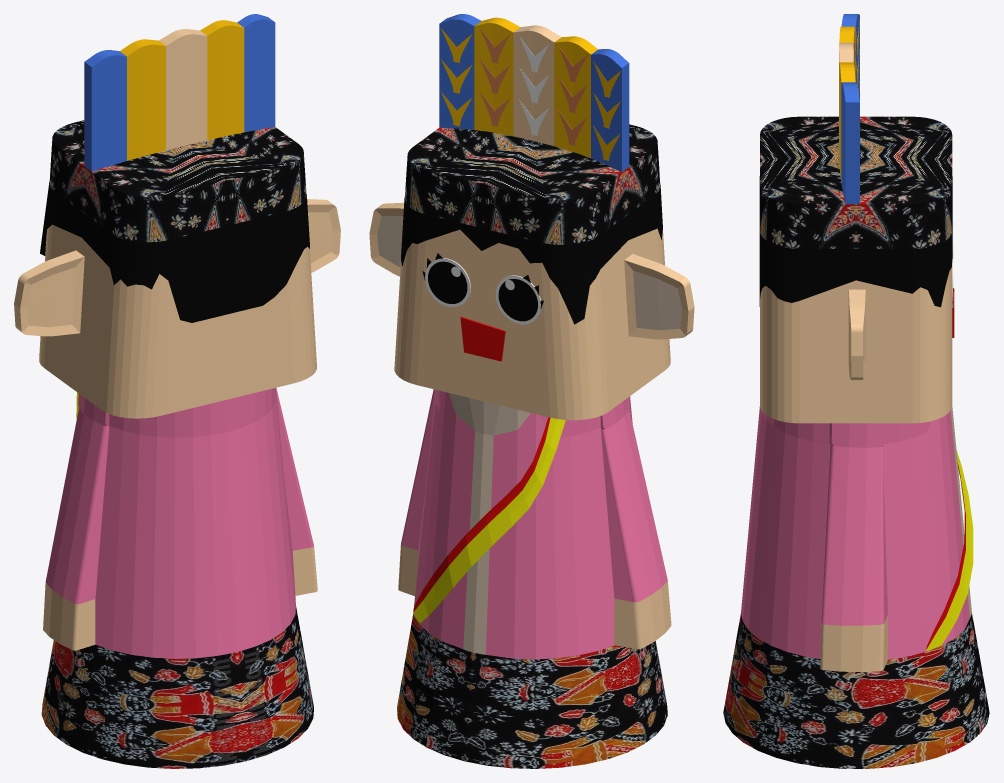
File: Ondel Wanita.fbx
3 views of the same model, side by side, from view 1: azimuth 30°, elevation 25°; view 2: azimuth 150°, elevation 25°; view 3: azimuth 270°, elevation 25° (orthographic). The views are drawn at different scales.
Visible parts, largest first — view 1: Cylinder, Cube, Plane, Cube.002, Cube.003, Cube.005; view 2: Cylinder, Cube, Cube.002, Plane, Cube.003, Cube.005, Cylinder.001, Cube.001, Plane.016; view 3: Cylinder, Cube, Cube.002, Cube.003, Plane, Cylinder.001, Cube.005.
Part boxes in pixels (box(x1,y1,x2,y2)): Cylinder: box(41, 388, 317, 768); Cube: box(39, 224, 316, 418); Plane: box(84, 14, 275, 171); Cube.002: box(49, 120, 306, 242); Cube.003: box(40, 181, 309, 322); Cube.005: box(14, 199, 340, 336); Cylinder: box(397, 389, 671, 768); Cube: box(394, 228, 670, 420); Cube.002: box(405, 124, 660, 244); Plane: box(439, 14, 629, 171); Cube.003: box(401, 185, 662, 324); Cube.005: box(369, 202, 694, 339); Cylinder.001: box(413, 417, 565, 622); Cube.001: box(422, 253, 543, 324); Plane.016: box(460, 317, 505, 361); Cylinder: box(723, 406, 989, 768); Cube: box(760, 263, 952, 423); Cube.002: box(760, 116, 952, 248); Cube.003: box(759, 176, 952, 307); Plane: box(839, 14, 859, 204); Cylinder.001: box(926, 450, 973, 651); Cube.005: box(848, 289, 865, 380).
Bounding box in the file's own units: 376 × 765 × 277.
